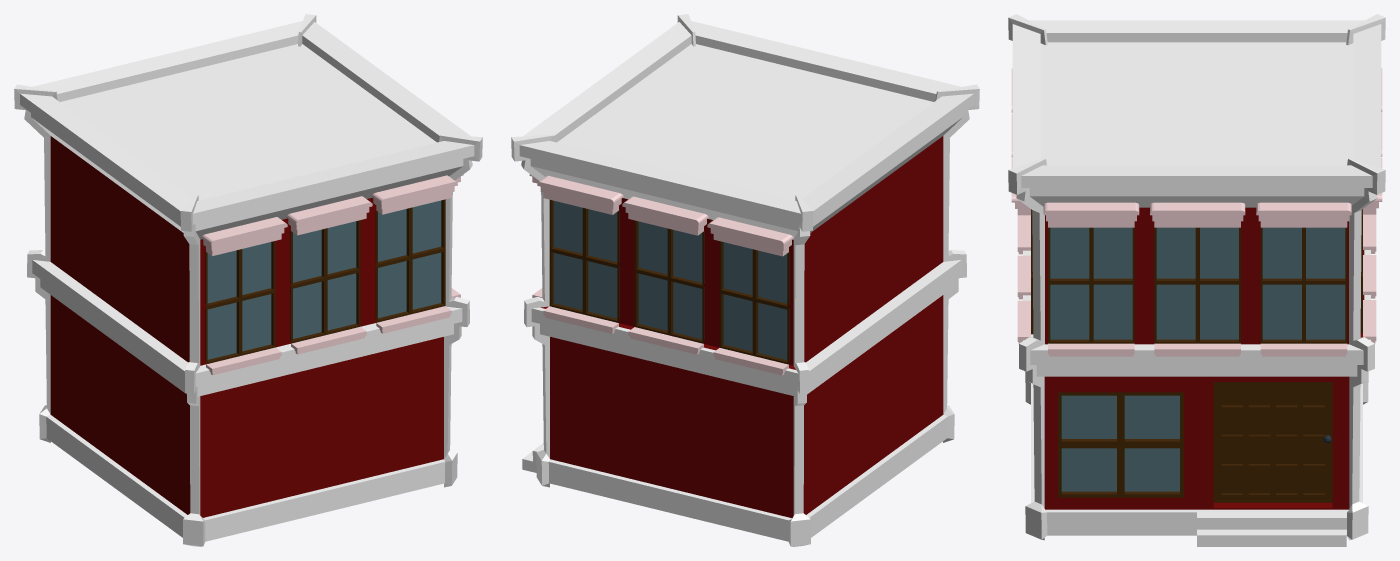
File: 2-White&Red.fbx
3 renders of one model, left to right at view 1: azimuth 30°, elevation 25°; view 2: azimuth 150°, elevation 25°; view 3: azimuth 270°, elevation 25°, orthographic. The views are drawn at different scales.
Visible parts, largest first — view 1: Cube.014; view 2: Cube.014; view 3: Cube.014.
Boxes of the visible parts, x1,y1,x2,y2 form: Cube.014: [14, 14, 482, 546]; Cube.014: [511, 14, 979, 546]; Cube.014: [1008, 14, 1385, 546].
Size of the model in its own units: 1421 by 1435 by 1574.
